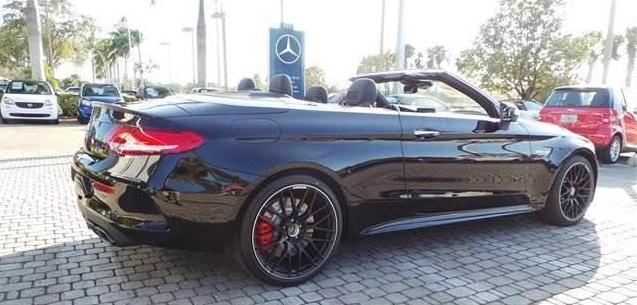C63AMG: (70, 67, 599, 287)
